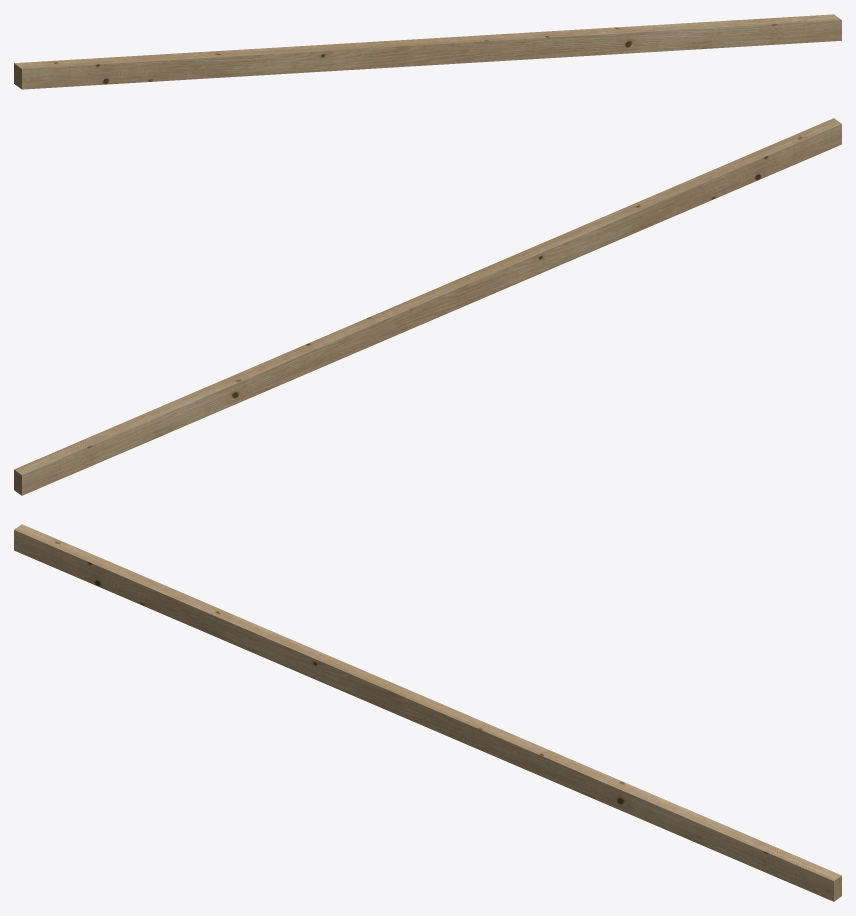
Rendered from Joglo_part_316.fbx.
3 renders of one model, top to bottom at view 1: azimuth 30°, elevation 25°; view 2: azimuth 210°, elevation 25°; view 3: azimuth 330°, elevation 25°, orthographic.
Visible parts, largest first — view 1: Mesh377_Wood___Pine_Grained_Horizontal_0.001; view 2: Mesh377_Wood___Pine_Grained_Horizontal_0.001; view 3: Mesh377_Wood___Pine_Grained_Horizontal_0.001.
Boxes of the visible parts, <box> form: Mesh377_Wood___Pine_Grained_Horizontal_0.001: <box>14,14,841,89</box>; Mesh377_Wood___Pine_Grained_Horizontal_0.001: <box>14,118,841,495</box>; Mesh377_Wood___Pine_Grained_Horizontal_0.001: <box>14,524,841,901</box>.
Bounding box in the file's own units: 117 × 23.37 × 1.97.
